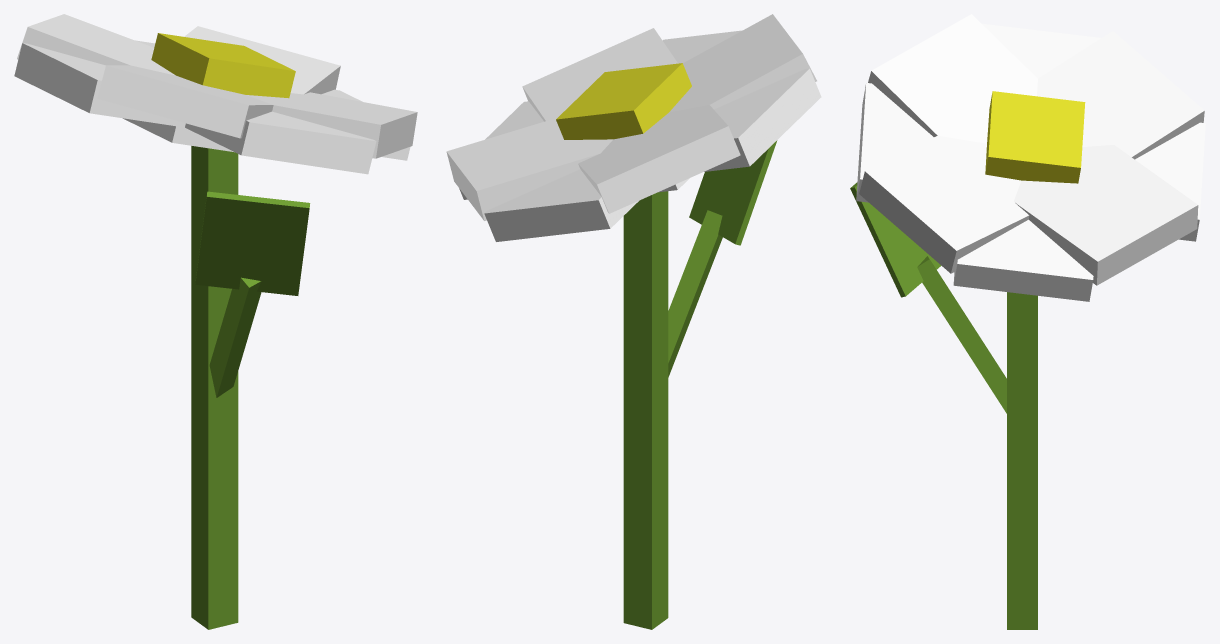
File: whiteFlower.gltf
3 views of the same model, side by side, from view 1: azimuth 30°, elevation 25°; view 2: azimuth 150°, elevation 25°; view 3: azimuth 270°, elevation 25° (orthographic). The views are drawn at different scales.
Visible parts, largest first — view 1: 2f95a8cc-bbbc-db35-044c-f79740e91d66, 923728d6-7e14-abfe-4ef2-f1e9526024a1, 6e9d4138-4100-a9bb-bcc9-680ca79e0740, fb4f10db-031a-c53a-c5c2-0aac2ff49b2d, 76d5f1e0-da0c-5dad-d6c1-a25b473d68ca, 08eeee49-d1c8-8403-e501-237fbcf2336f, 70e2d5b8-fb36-3673-6394-4382a56b1b57, 5e36d5f6-5c8c-c5db-3223-4b51d02703ab, 4a72571e-9fbe-2ec7-f372-8be7525caeb4, 0cba9fad-0adc-b3a2-8696-2442c2e0c0a3, 52942585-3229-d97f-2636-427560c31cca; view 2: 2f95a8cc-bbbc-db35-044c-f79740e91d66, 5e36d5f6-5c8c-c5db-3223-4b51d02703ab, 0cba9fad-0adc-b3a2-8696-2442c2e0c0a3, fb4f10db-031a-c53a-c5c2-0aac2ff49b2d, 6e9d4138-4100-a9bb-bcc9-680ca79e0740, 76d5f1e0-da0c-5dad-d6c1-a25b473d68ca, 08eeee49-d1c8-8403-e501-237fbcf2336f, 70e2d5b8-fb36-3673-6394-4382a56b1b57, 923728d6-7e14-abfe-4ef2-f1e9526024a1, 4a72571e-9fbe-2ec7-f372-8be7525caeb4; view 3: 0cba9fad-0adc-b3a2-8696-2442c2e0c0a3, 70e2d5b8-fb36-3673-6394-4382a56b1b57, 6e9d4138-4100-a9bb-bcc9-680ca79e0740, 5e36d5f6-5c8c-c5db-3223-4b51d02703ab, 2f95a8cc-bbbc-db35-044c-f79740e91d66, 08eeee49-d1c8-8403-e501-237fbcf2336f, 76d5f1e0-da0c-5dad-d6c1-a25b473d68ca, fb4f10db-031a-c53a-c5c2-0aac2ff49b2d, 4a72571e-9fbe-2ec7-f372-8be7525caeb4, 923728d6-7e14-abfe-4ef2-f1e9526024a1.
Boxes of the visible parts, bbox=[...] form: 2f95a8cc-bbbc-db35-044c-f79740e91d66: bbox=[191, 146, 238, 629]; 923728d6-7e14-abfe-4ef2-f1e9526024a1: bbox=[195, 191, 310, 295]; 6e9d4138-4100-a9bb-bcc9-680ca79e0740: bbox=[97, 65, 273, 138]; fb4f10db-031a-c53a-c5c2-0aac2ff49b2d: bbox=[135, 40, 376, 174]; 76d5f1e0-da0c-5dad-d6c1-a25b473d68ca: bbox=[151, 33, 295, 98]; 08eeee49-d1c8-8403-e501-237fbcf2336f: bbox=[14, 43, 410, 160]; 70e2d5b8-fb36-3673-6394-4382a56b1b57: bbox=[246, 92, 417, 158]; 5e36d5f6-5c8c-c5db-3223-4b51d02703ab: bbox=[17, 14, 175, 75]; 4a72571e-9fbe-2ec7-f372-8be7525caeb4: bbox=[209, 277, 261, 397]; 0cba9fad-0adc-b3a2-8696-2442c2e0c0a3: bbox=[184, 26, 340, 94]; 52942585-3229-d97f-2636-427560c31cca: bbox=[123, 118, 234, 152]; 2f95a8cc-bbbc-db35-044c-f79740e91d66: bbox=[623, 191, 668, 629]; 5e36d5f6-5c8c-c5db-3223-4b51d02703ab: bbox=[578, 105, 740, 213]; 0cba9fad-0adc-b3a2-8696-2442c2e0c0a3: bbox=[446, 117, 612, 220]; fb4f10db-031a-c53a-c5c2-0aac2ff49b2d: bbox=[484, 30, 741, 241]; 6e9d4138-4100-a9bb-bcc9-680ca79e0740: bbox=[669, 14, 816, 112]; 76d5f1e0-da0c-5dad-d6c1-a25b473d68ca: bbox=[556, 63, 691, 139]; 08eeee49-d1c8-8403-e501-237fbcf2336f: bbox=[459, 68, 821, 199]; 70e2d5b8-fb36-3673-6394-4382a56b1b57: bbox=[522, 28, 677, 121]; 923728d6-7e14-abfe-4ef2-f1e9526024a1: bbox=[689, 140, 777, 245]; 4a72571e-9fbe-2ec7-f372-8be7525caeb4: bbox=[668, 210, 722, 377]; 0cba9fad-0adc-b3a2-8696-2442c2e0c0a3: bbox=[1013, 145, 1198, 285]; 70e2d5b8-fb36-3673-6394-4382a56b1b57: bbox=[859, 135, 1029, 273]; 6e9d4138-4100-a9bb-bcc9-680ca79e0740: bbox=[868, 14, 1037, 143]; 5e36d5f6-5c8c-c5db-3223-4b51d02703ab: bbox=[1037, 31, 1204, 159]; 2f95a8cc-bbbc-db35-044c-f79740e91d66: bbox=[1007, 292, 1037, 629]; 08eeee49-d1c8-8403-e501-237fbcf2336f: bbox=[953, 23, 1101, 301]; 76d5f1e0-da0c-5dad-d6c1-a25b473d68ca: bbox=[985, 91, 1085, 183]; fb4f10db-031a-c53a-c5c2-0aac2ff49b2d: bbox=[856, 83, 1205, 241]; 4a72571e-9fbe-2ec7-f372-8be7525caeb4: bbox=[917, 256, 1006, 413]; 923728d6-7e14-abfe-4ef2-f1e9526024a1: bbox=[850, 182, 941, 297].
Size of the model in its own units: 0.6748 by 1.22 by 0.714.
Materials: 3 (3 with a texture image).
